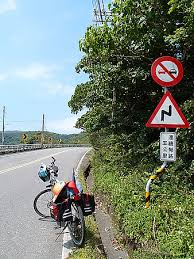Double_bend_right: (144, 90, 191, 129)
